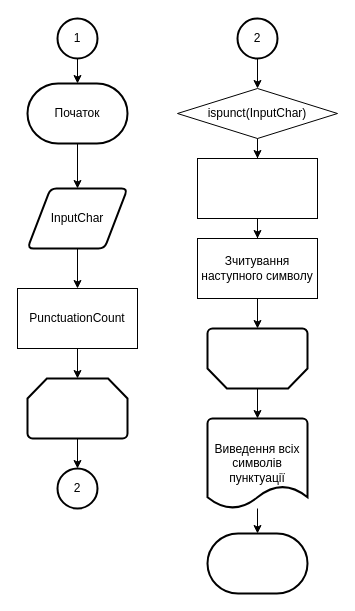
This 355x611 diagram has some shape labels left out. Here are the shapes that lost their labels. From the top down, the centre of each, then its label:
At point 257,188: "PunctuationCount++".
At point 257,358: "Кінець циклу while".
At point 77,408: "Початок циклу while".
At point 257,563: "Кінець".
